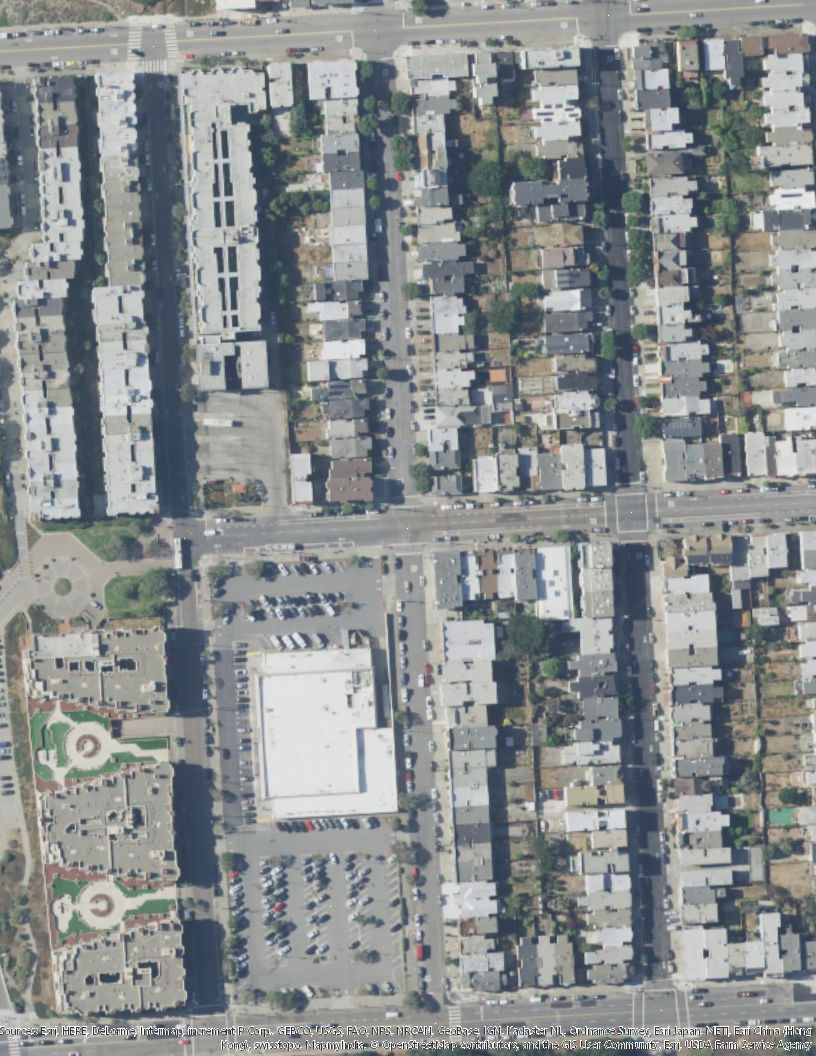zebracross: (161, 24, 179, 57), (126, 26, 142, 61), (447, 1006, 462, 1042), (143, 59, 166, 74)
